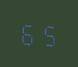five: (38, 19, 56, 47)
six: (19, 18, 37, 46)
